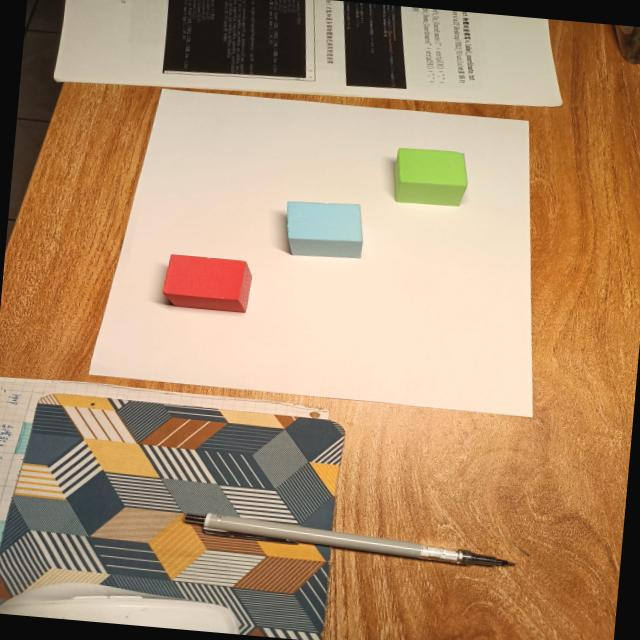BLUE: (285, 202, 362, 259)
GREEN: (393, 147, 467, 206)
RED: (160, 254, 253, 312)
